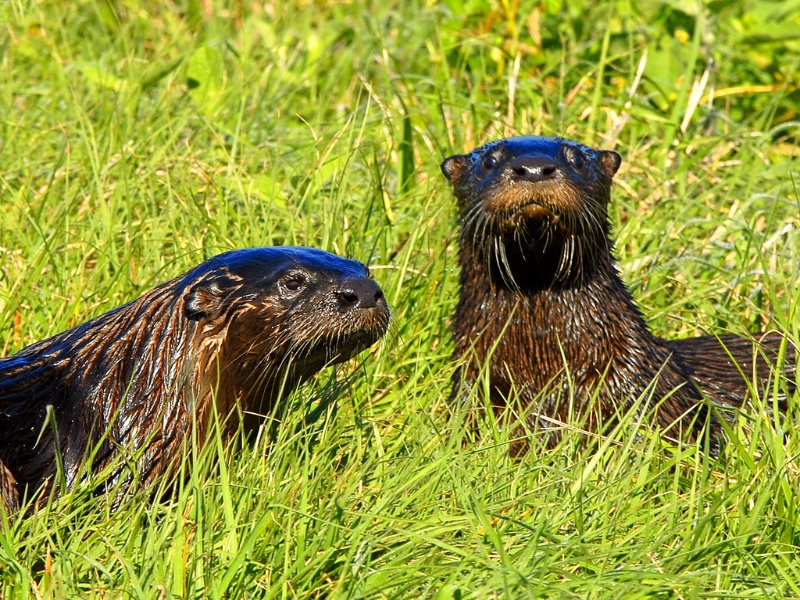minkish: (432, 132, 800, 478), (1, 234, 392, 525)
